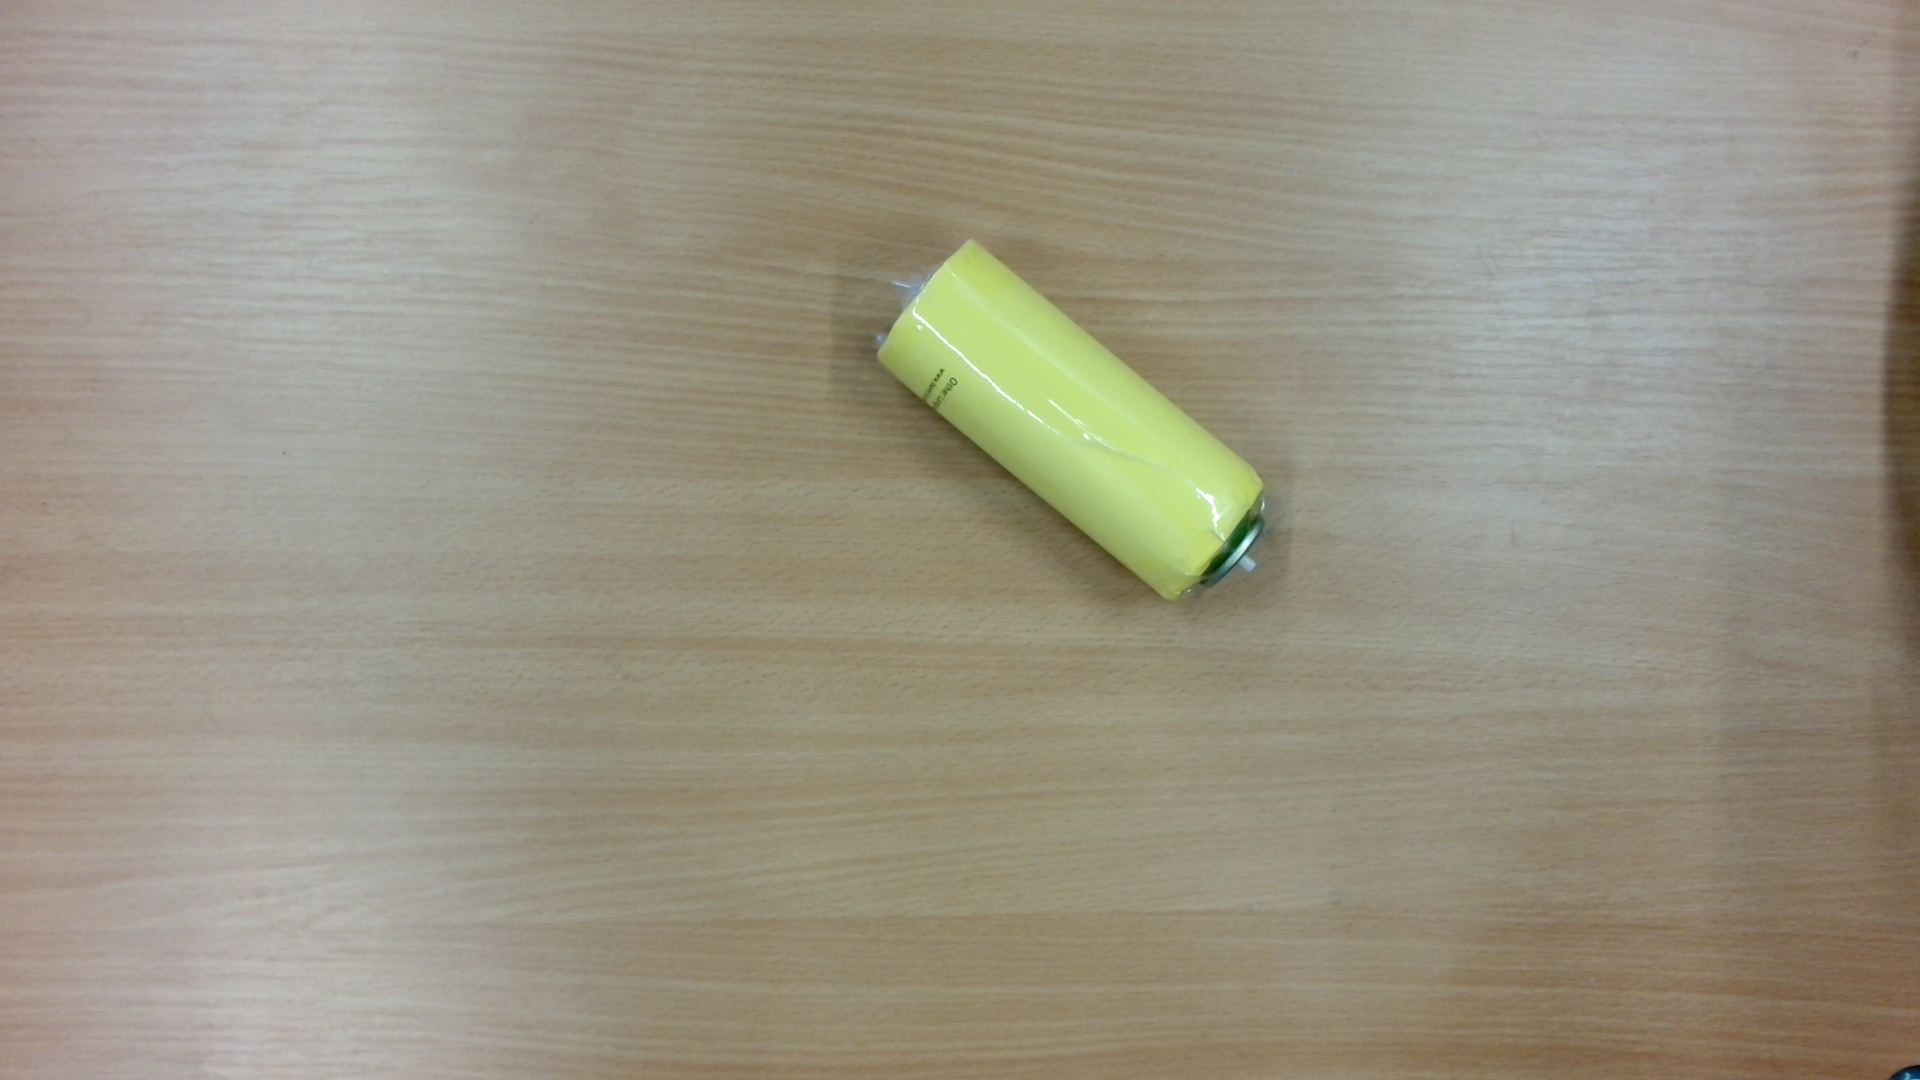Cylinder: (855, 219, 1296, 617)
